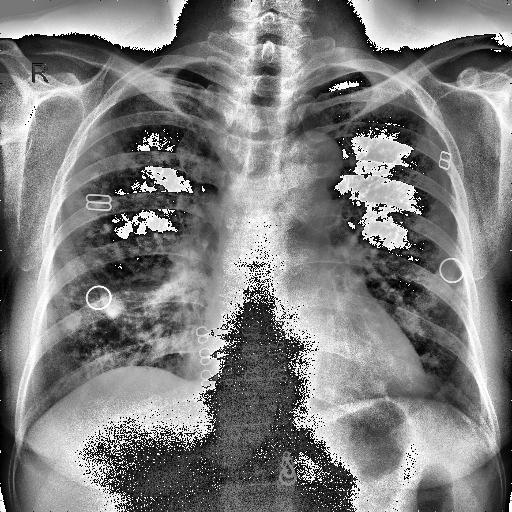0- Aortic enlargement: (282, 128, 344, 208), (282, 132, 344, 192), (290, 136, 342, 185)
8- Nodule-Mass: (42, 81, 214, 439), (25, 98, 198, 414), (346, 153, 484, 427), (365, 198, 494, 416), (150, 264, 166, 278), (372, 381, 384, 394), (51, 387, 63, 399), (102, 222, 115, 233), (64, 198, 74, 212), (428, 354, 439, 366), (150, 146, 162, 156), (404, 230, 414, 240), (92, 172, 102, 181), (89, 183, 99, 192), (176, 178, 186, 186), (428, 203, 438, 211), (96, 144, 105, 152), (102, 181, 110, 188)
